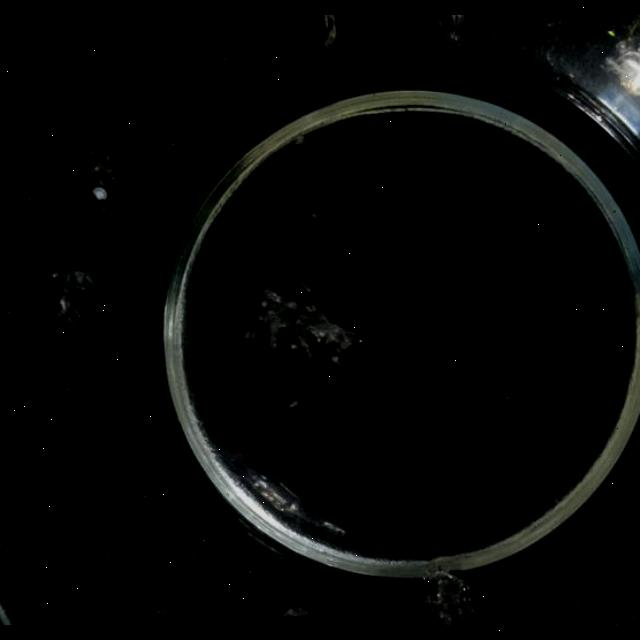Fibre: (244, 277, 358, 368), (422, 570, 480, 624), (50, 268, 96, 326), (86, 155, 116, 199), (434, 15, 466, 50), (282, 606, 310, 622), (292, 134, 308, 146)
